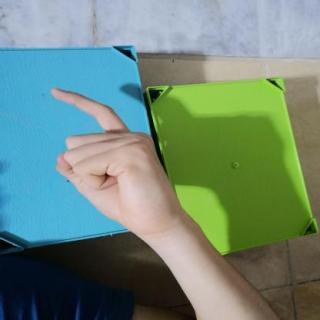RAA: (38, 81, 184, 236)
